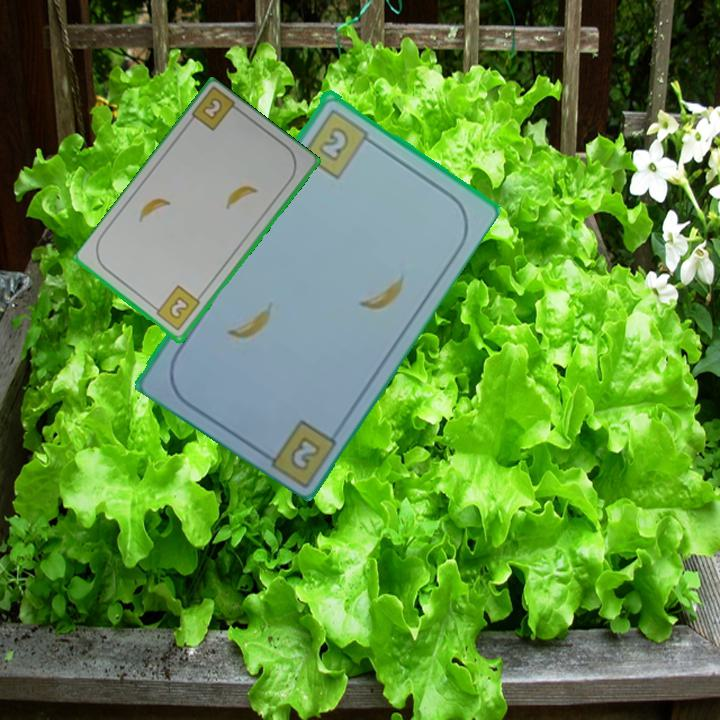2b: (298, 105, 378, 181), (149, 282, 203, 334), (286, 432, 324, 471), (198, 94, 226, 123)
